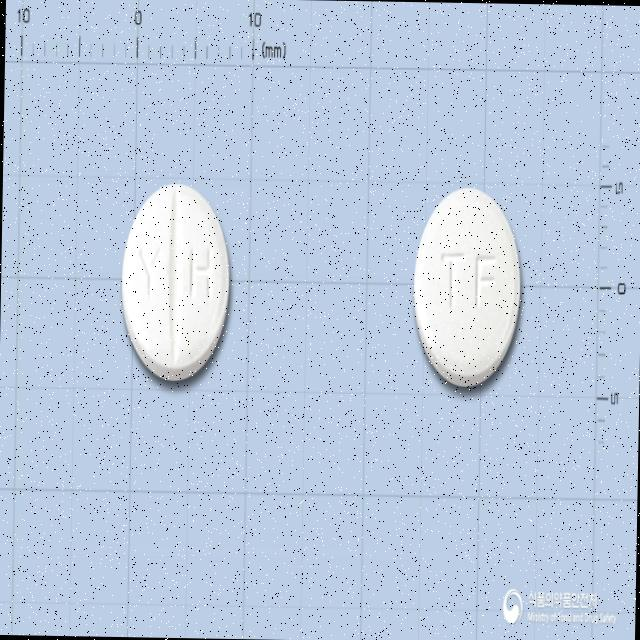Curasil: (411, 184, 524, 390), (118, 180, 232, 383)
